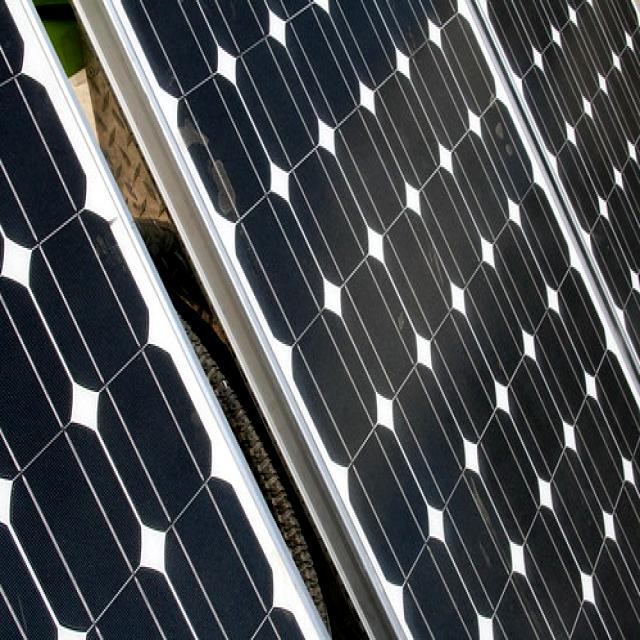crack: (95, 1, 639, 640), (5, 11, 423, 640)
